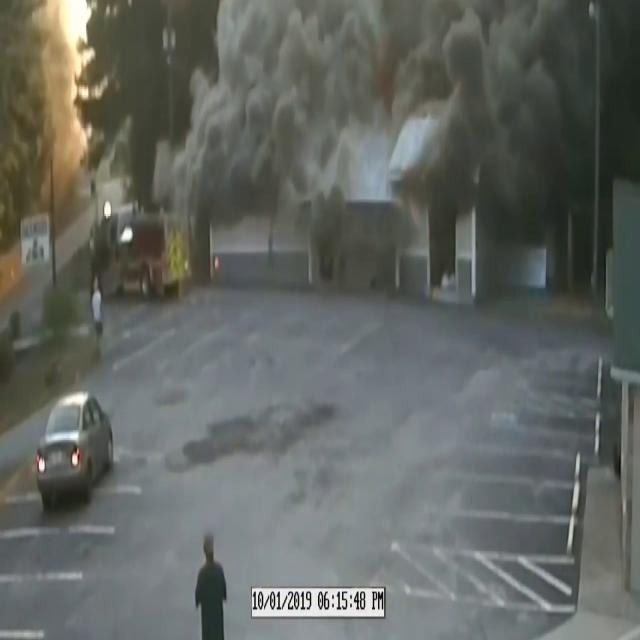Smoke: (153, 1, 640, 297)
